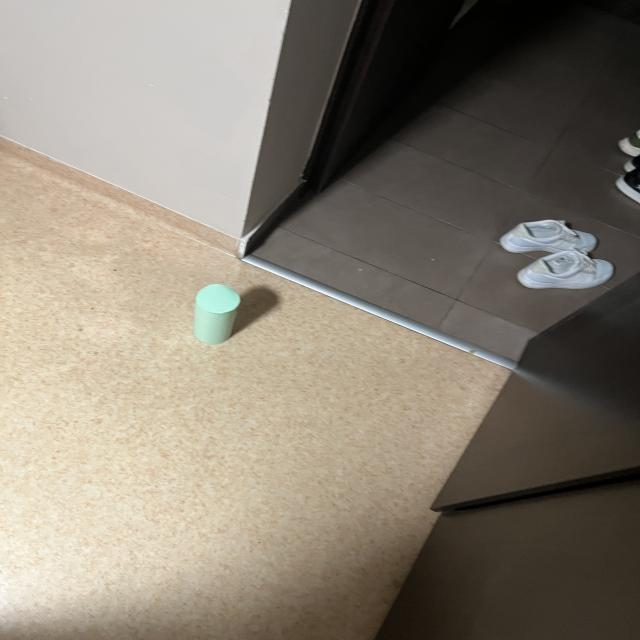meta: (194, 284, 240, 344)
